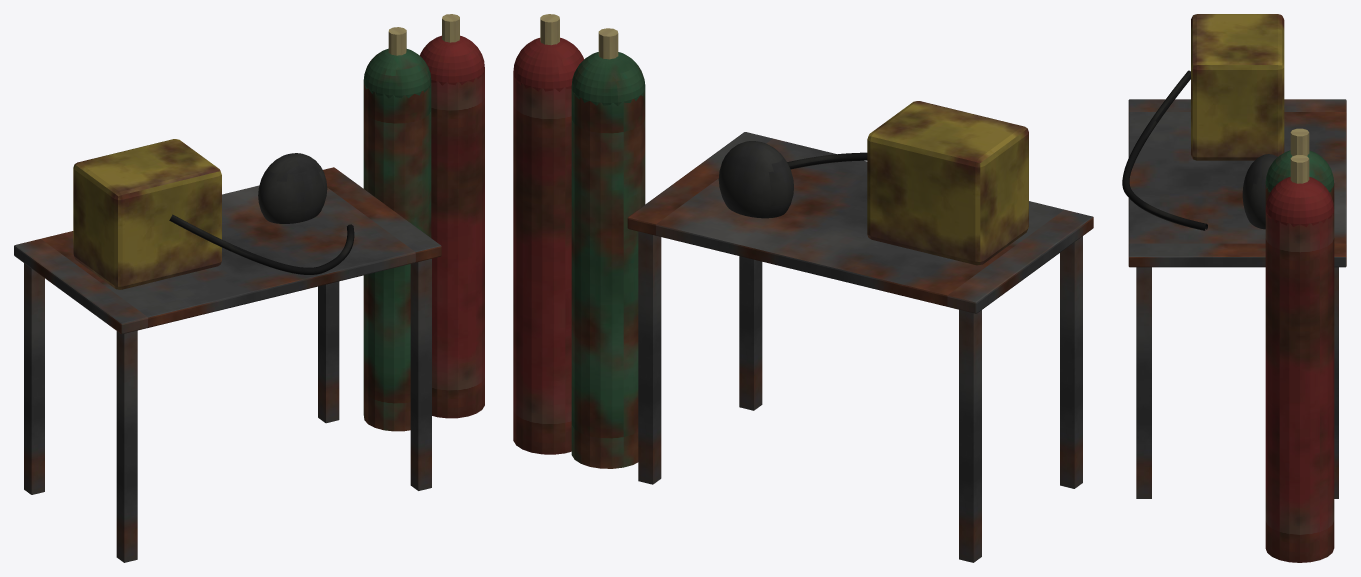
Rendered from HM11_WeldingStation.glb.
3 views of the same model, side by side, from view 1: azimuth 30°, elevation 25°; view 2: azimuth 150°, elevation 25°; view 3: azimuth 270°, elevation 25° (orthographic). The views are drawn at different scales.
Visible parts, largest first — view 1: HM11_WeldingStation; view 2: HM11_WeldingStation; view 3: HM11_WeldingStation.
Boxes of the visible parts, x1,y1,x2,y2 form: HM11_WeldingStation: (14,14,484,562); HM11_WeldingStation: (513,14,1093,562); HM11_WeldingStation: (1122,14,1346,562).
Bounding box in the file's own units: 1.5 × 1.25 × 0.6504.
7 materials, 7 textured.
